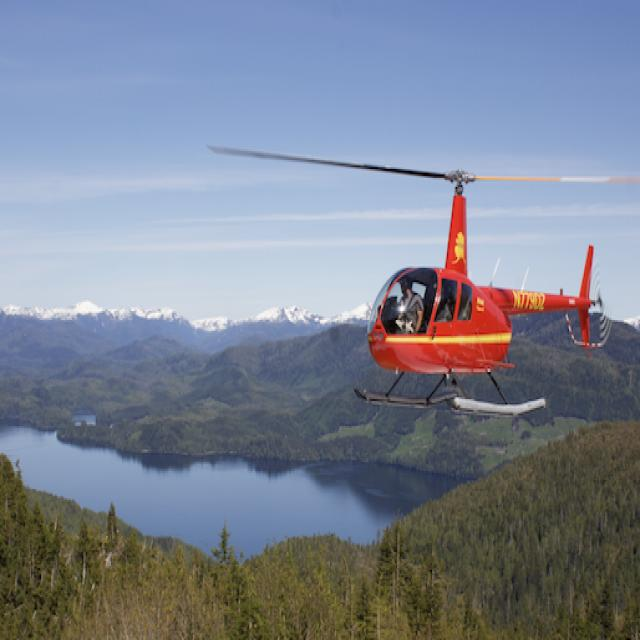helicopter: (211, 143, 640, 415)
